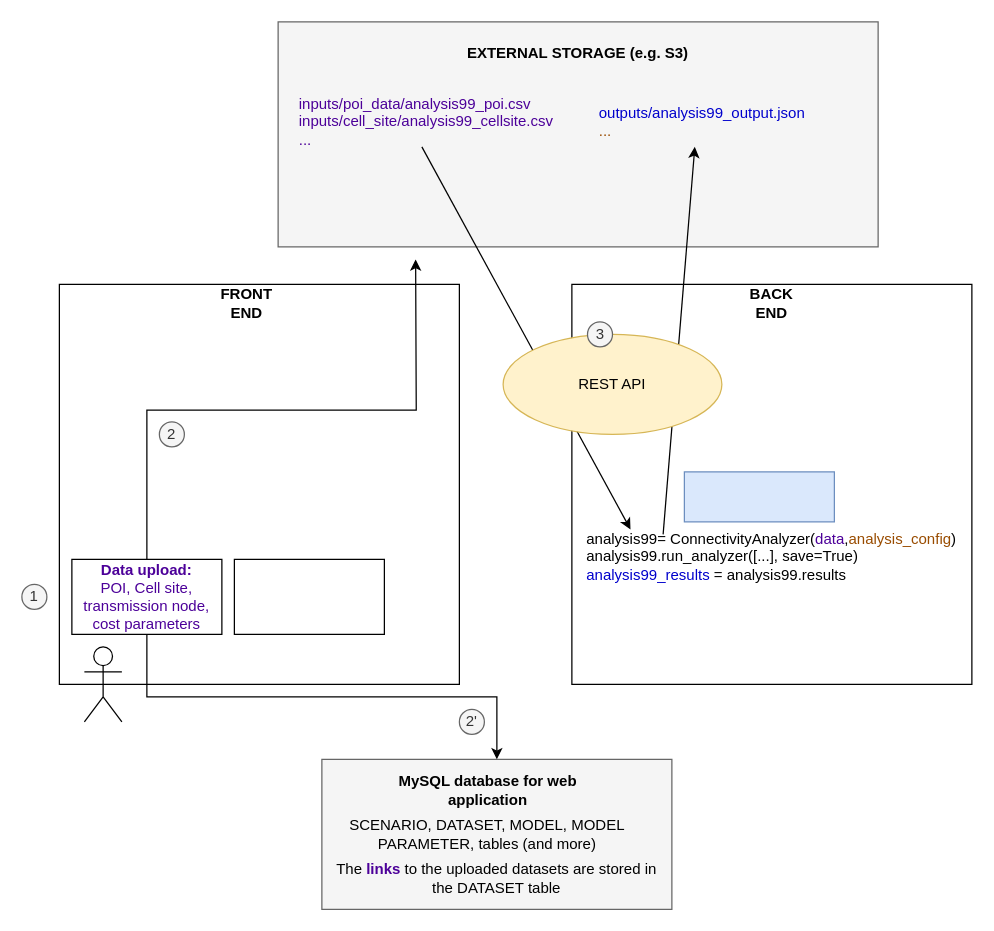
This 994x931 diagram has some shape labels left out. Each missing label, with the centre of its shape:
"inframapkit module" belongs at [758,496].
"Set analysis configuration: Scenario, selected technologies/models" belongs at [308,596].
"User" belongs at [102,684].
